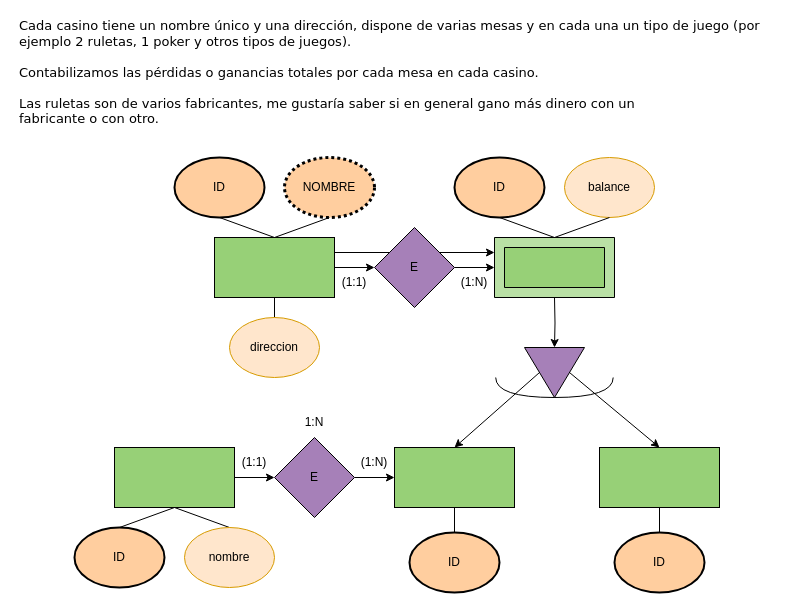
This 794x610 diagram has some shape labels left out. The centre of each missing label's shape, as x and y in pixels:
Casino: (x=274, y=267)
Fabricante: (x=174, y=477)
Mesa: (x=554, y=267)
Poker: (x=659, y=477)
Ruleta: (x=454, y=477)
